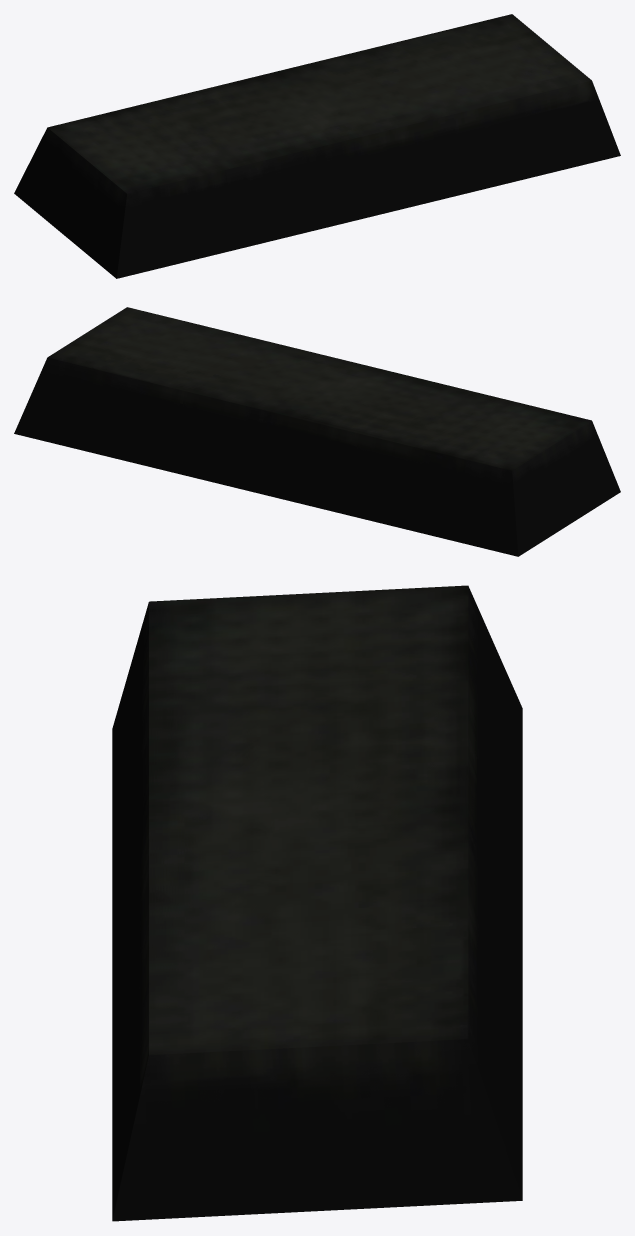
Rendered from link_54__key-60.glb.
The picture shows the model from 3 angles, top to bottom: view 1: azimuth 30°, elevation 25°; view 2: azimuth 150°, elevation 25°; view 3: azimuth 270°, elevation 25°; orthographic projection. The views are drawn at different scales.
Visible parts, largest first — view 1: geometry_0; view 2: geometry_0; view 3: geometry_0.
Boxes of the visible parts, x1,y1,x2,y2 form: geometry_0: (14, 14, 620, 278); geometry_0: (14, 307, 620, 556); geometry_0: (112, 585, 522, 1221).
Bounding box in the file's own units: 0.2039 × 0.0315 × 0.0718.
1 material, 1 textured.
